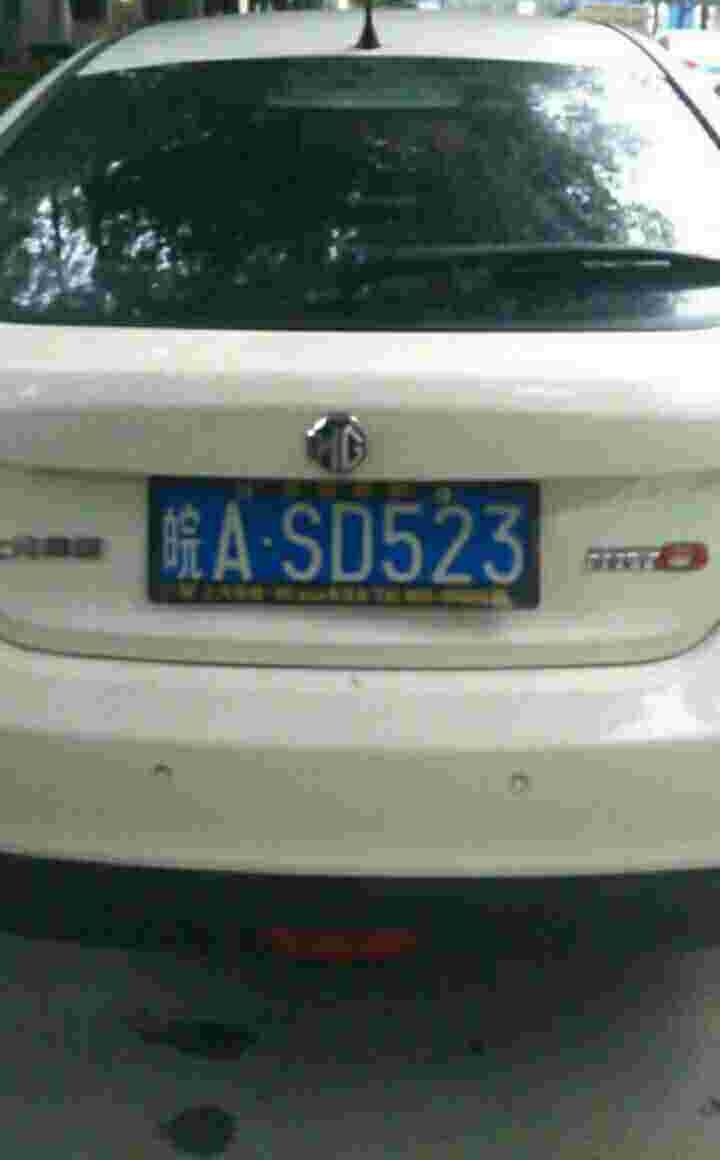license_plate: (141, 484, 534, 601)
